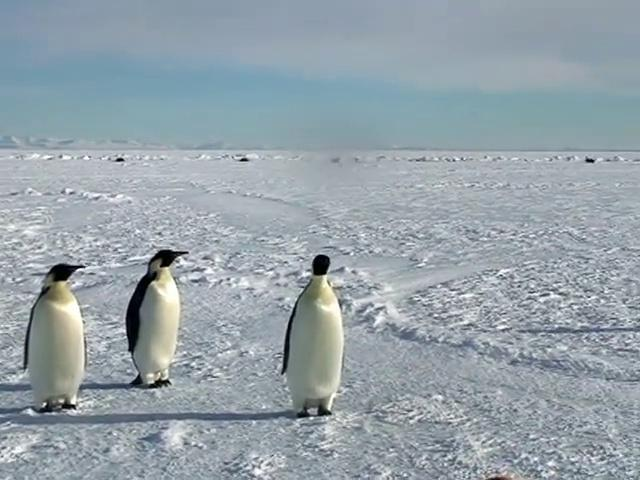animal: (282, 256, 344, 418)
